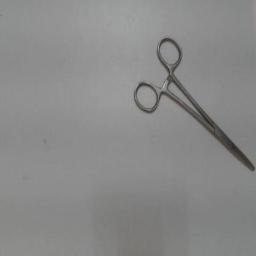Mayo Needle Holder: (130, 32, 256, 178)
